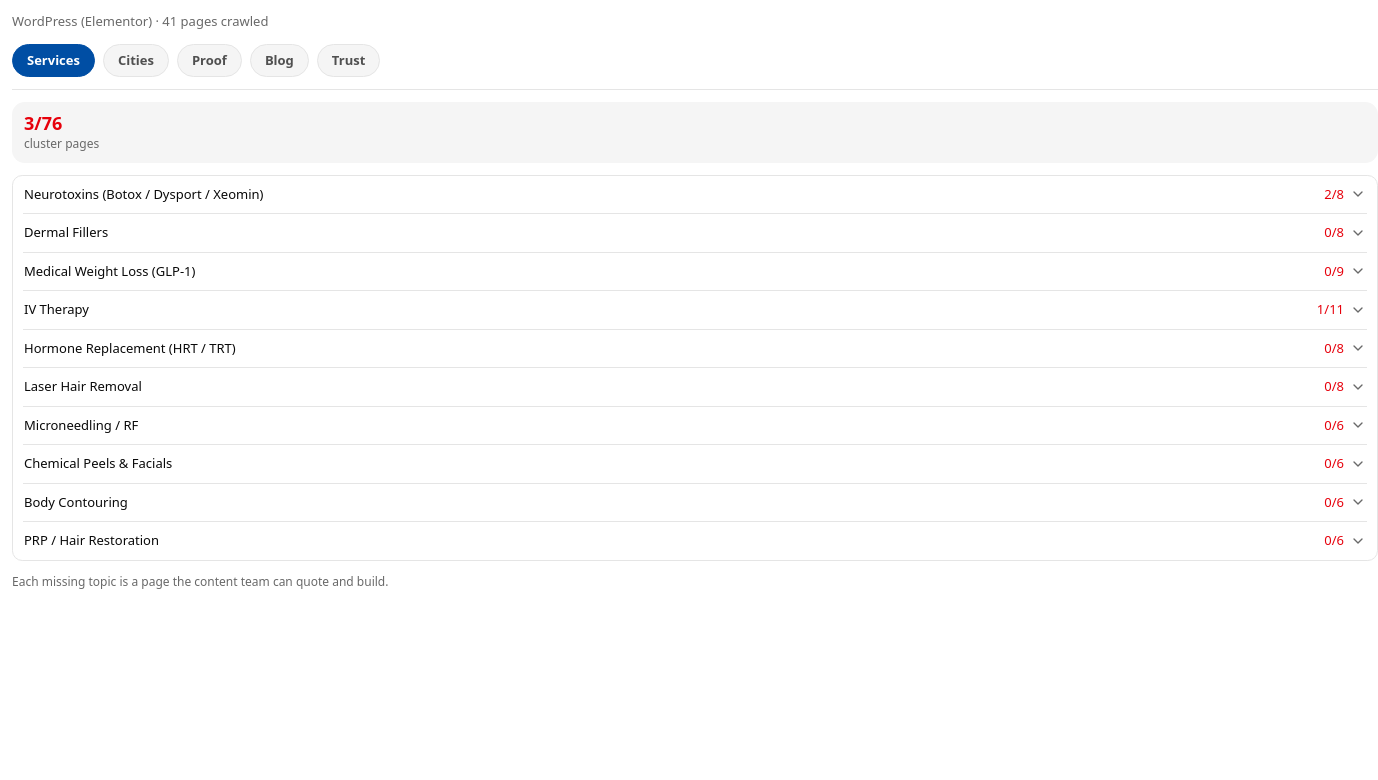
On-Page and Site › site: services accordion lists present and missing topics
Click the text "IV Therapy".
click(56, 309)  # box [24,300,89,318]
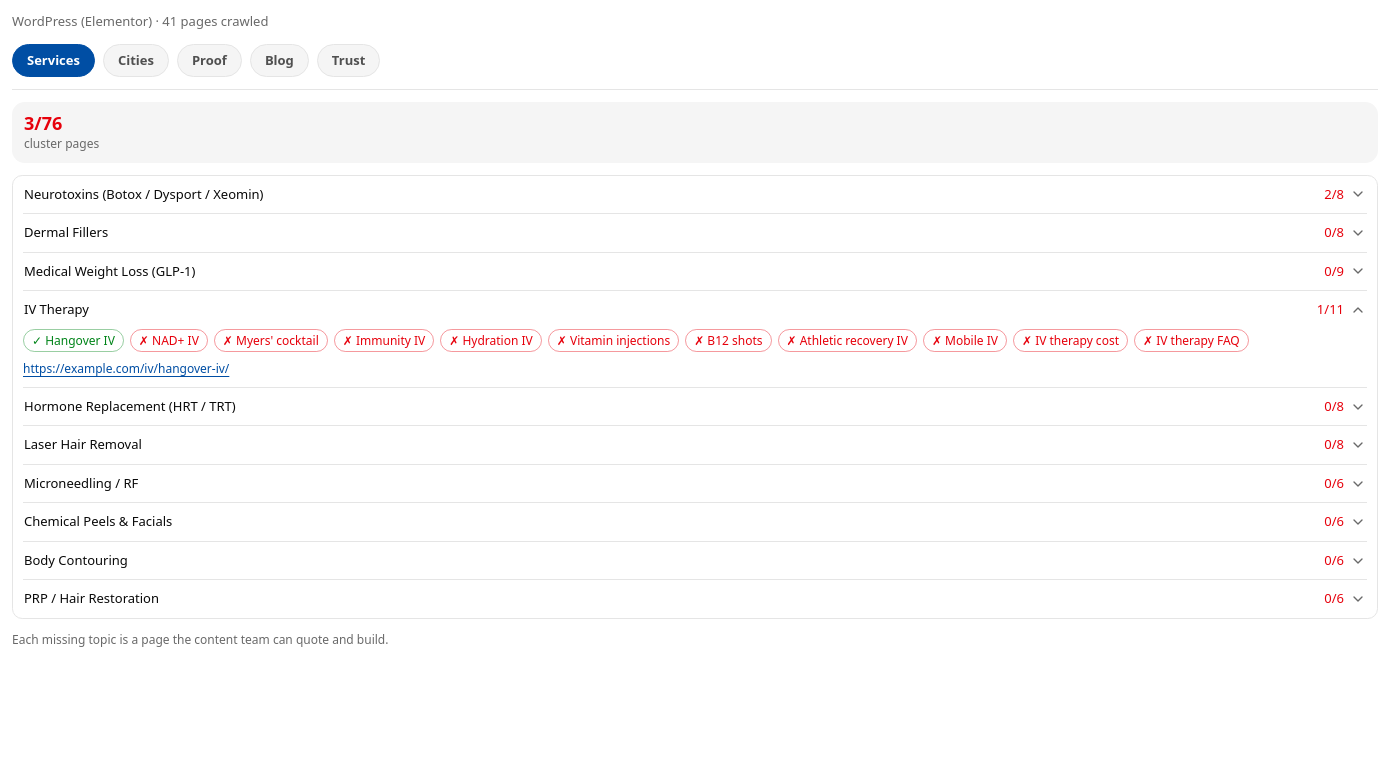
Expected: the text "✓ Hangover IV" is shown, [23,328,124,352]
Expected: the text "✗ NAD+ IV" is shown, [130,328,208,352]
